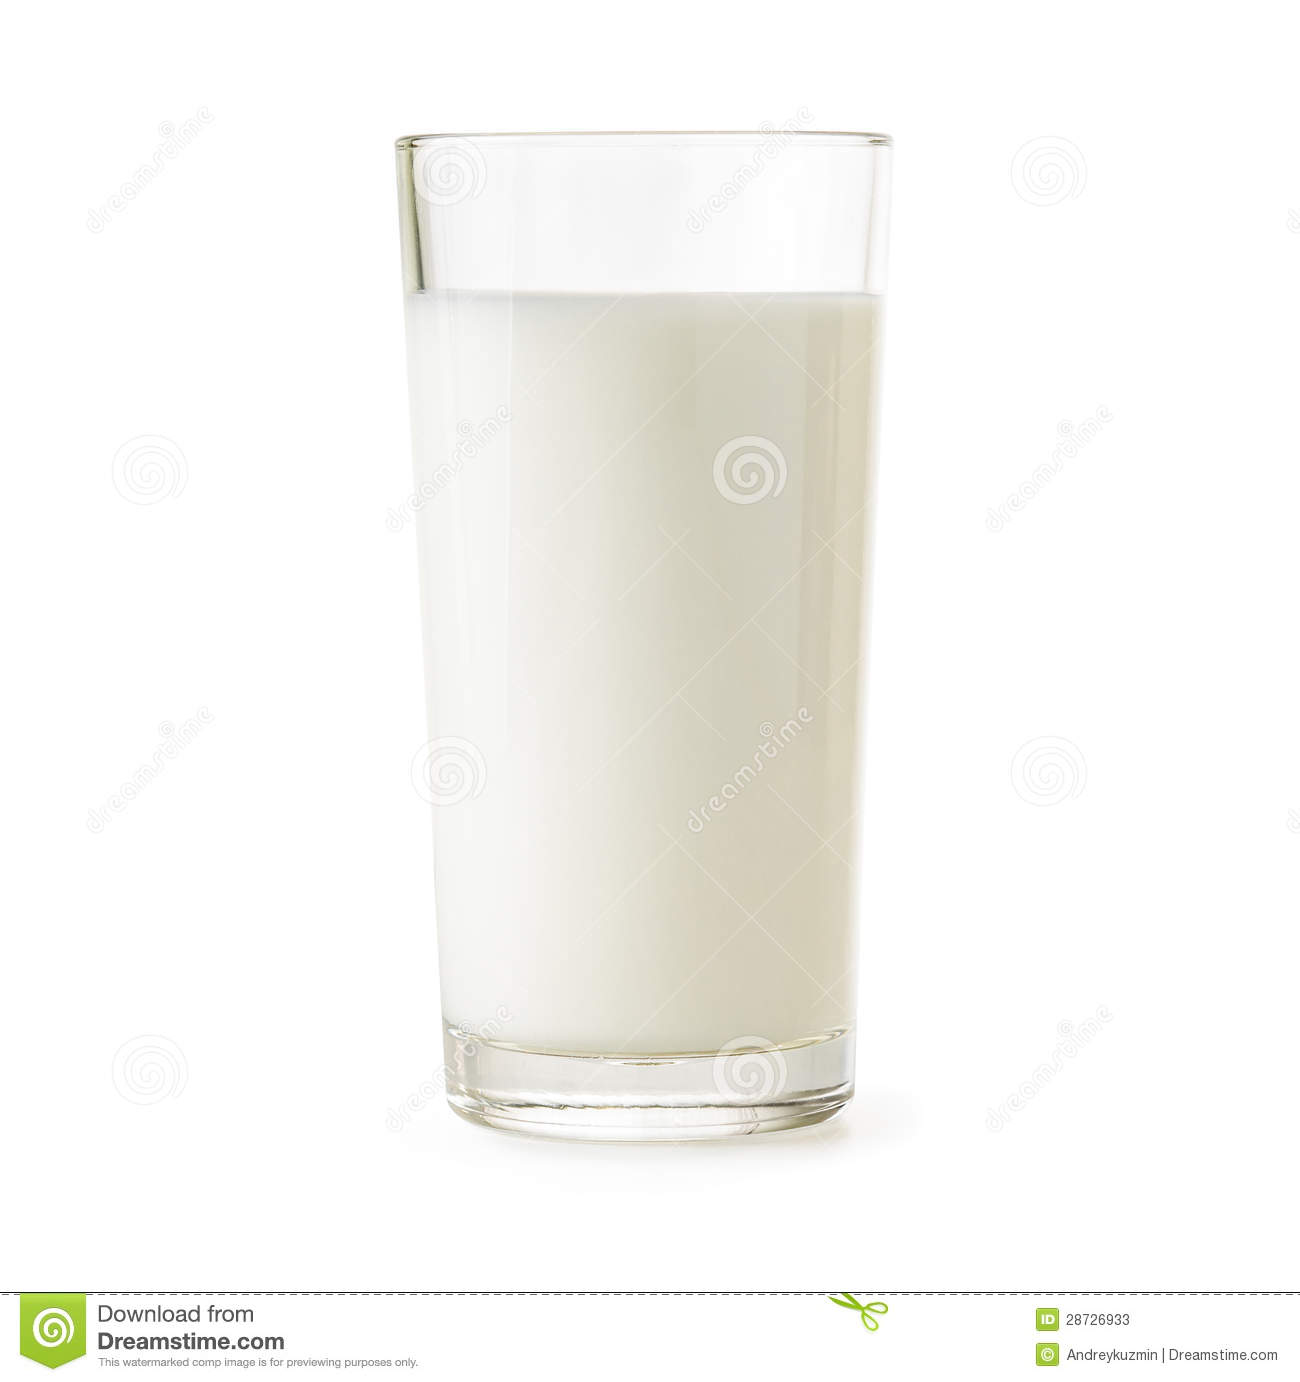glass of milk: (387, 137, 877, 1168)
